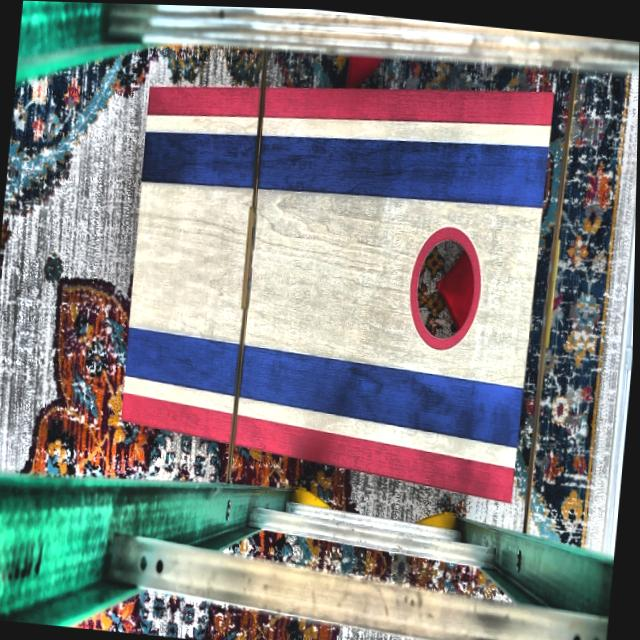board: (122, 84, 547, 455)
hole: (405, 217, 487, 349)
red-bean-bag: (344, 52, 382, 86)
red-bean-bag-in-hole: (432, 243, 476, 326)
